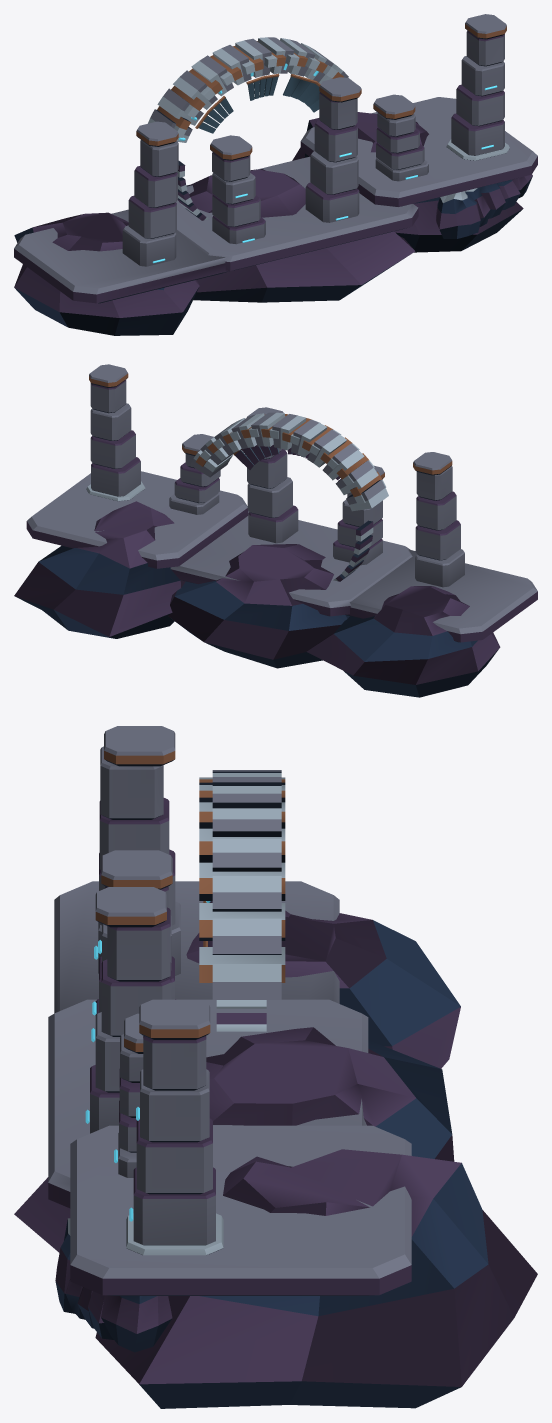
Rendered from sanctuary-meridian.glb.
The picture shows the model from 3 angles, top to bottom: view 1: azimuth 30°, elevation 25°; view 2: azimuth 150°, elevation 25°; view 3: azimuth 270°, elevation 25°; orthographic projection. The views are drawn at different scales.
Parts seen in each view (by area): view 1: sanctuary-meridian; view 2: sanctuary-meridian; view 3: sanctuary-meridian.
Boxes of the visible parts, bbox=[...] form: sanctuary-meridian: bbox=[14, 14, 537, 335]; sanctuary-meridian: bbox=[14, 364, 537, 697]; sanctuary-meridian: bbox=[14, 726, 537, 1408].
Bounding box in the file's own units: 18.01 × 8.09 × 9.26.
